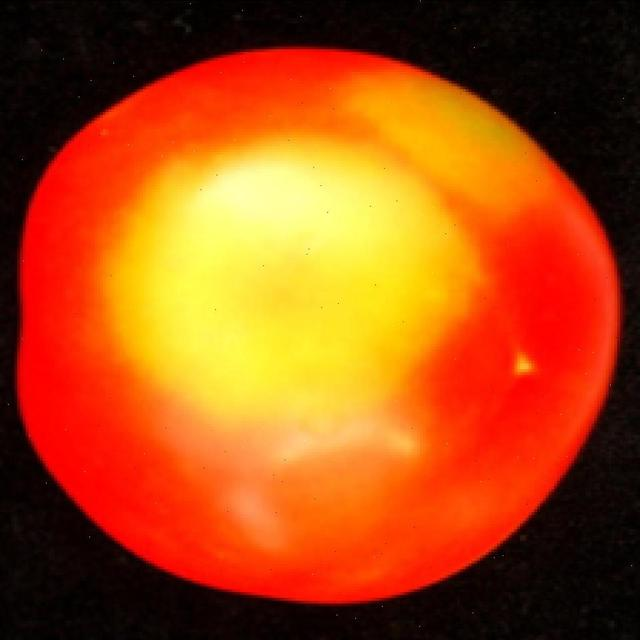Spotted wilt Virus Fruit: (9, 30, 414, 403)
